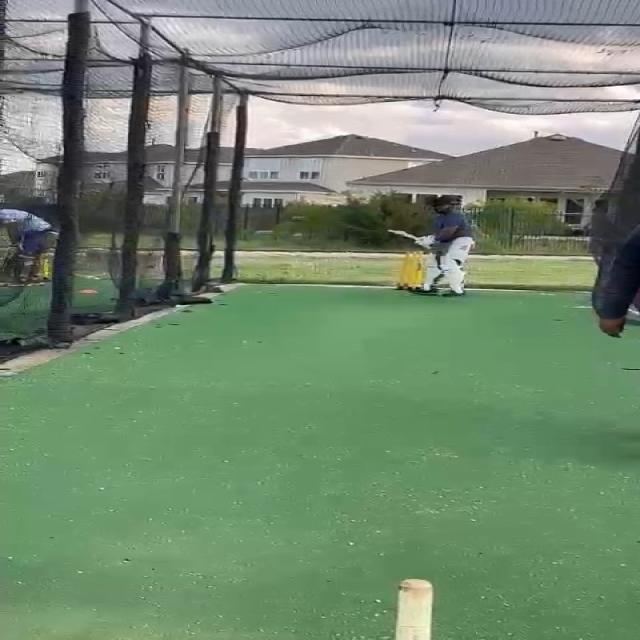batsman: (386, 194, 479, 298)
